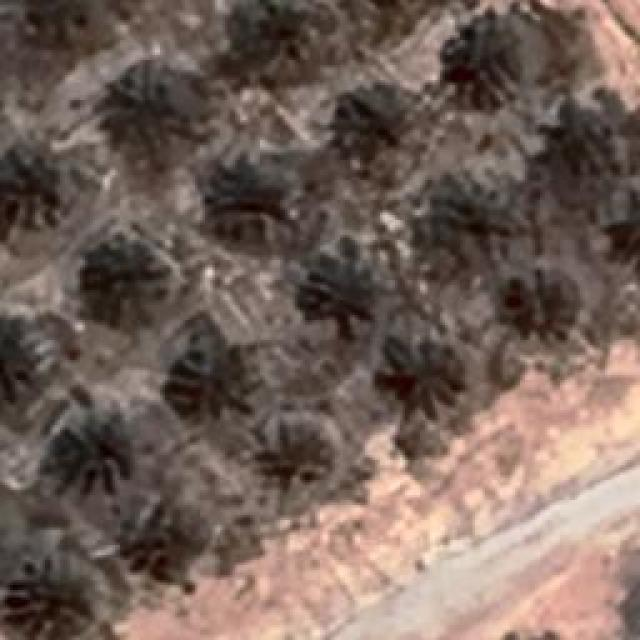PalmTree: (98, 59, 212, 162), (435, 12, 523, 106), (42, 402, 132, 492), (78, 235, 170, 323), (212, 164, 306, 246), (0, 560, 95, 638), (430, 190, 515, 275), (130, 502, 220, 582), (492, 267, 578, 345), (544, 108, 628, 186), (382, 344, 472, 414), (346, 98, 424, 178), (222, 0, 317, 62), (294, 260, 382, 322), (178, 351, 260, 411), (258, 424, 332, 486), (0, 306, 45, 404), (35, 89, 70, 176), (609, 189, 640, 278), (619, 182, 640, 273), (60, 21, 86, 89)
